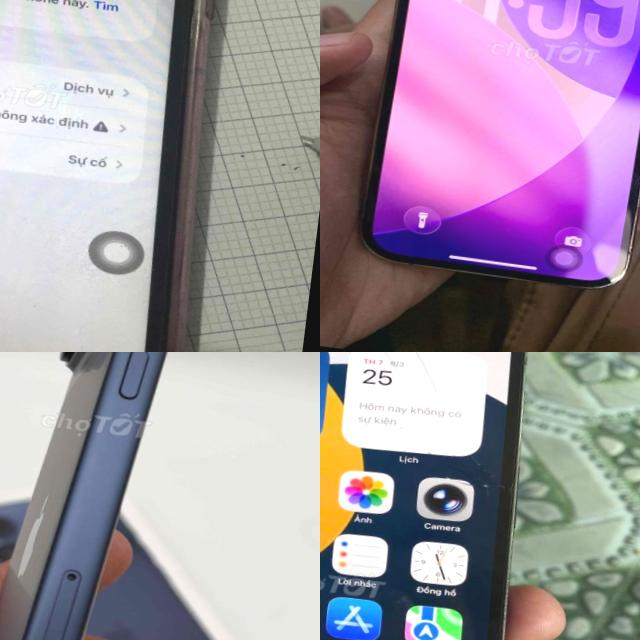physical_damage: (320, 352, 544, 541)
